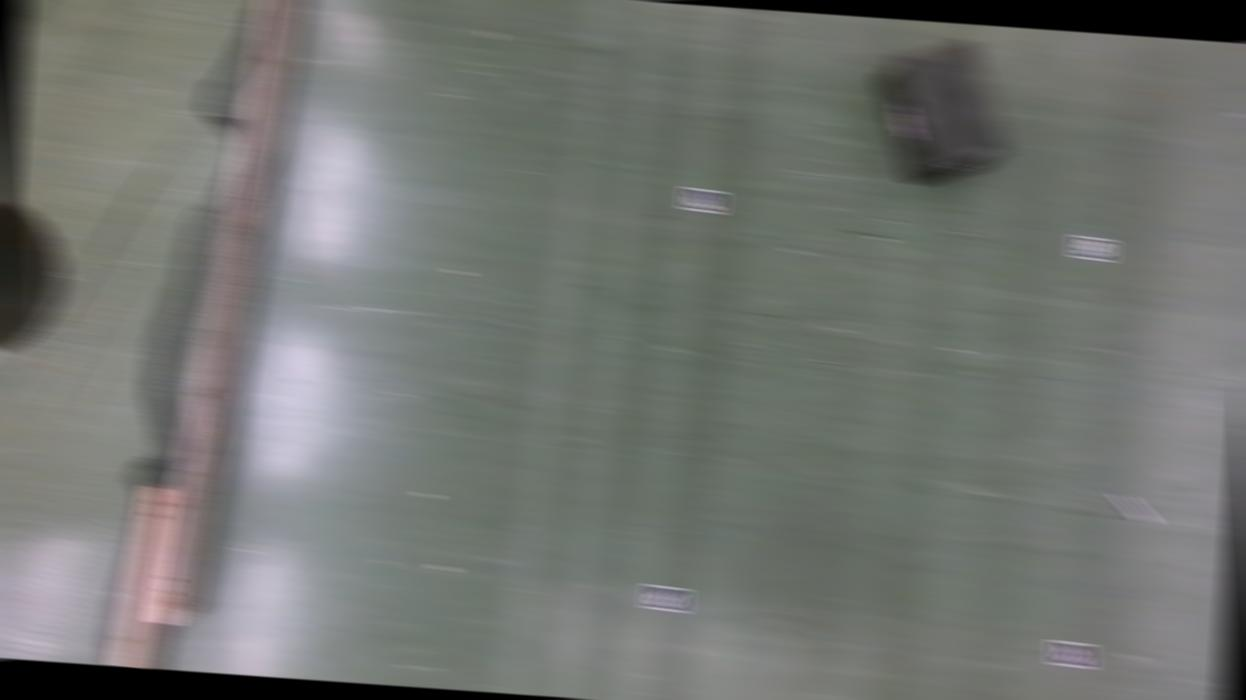probes: (1110, 490, 1158, 522)
rako: (866, 33, 1016, 193)
